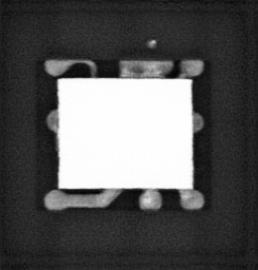DIE_INK: (146, 37, 157, 47)
